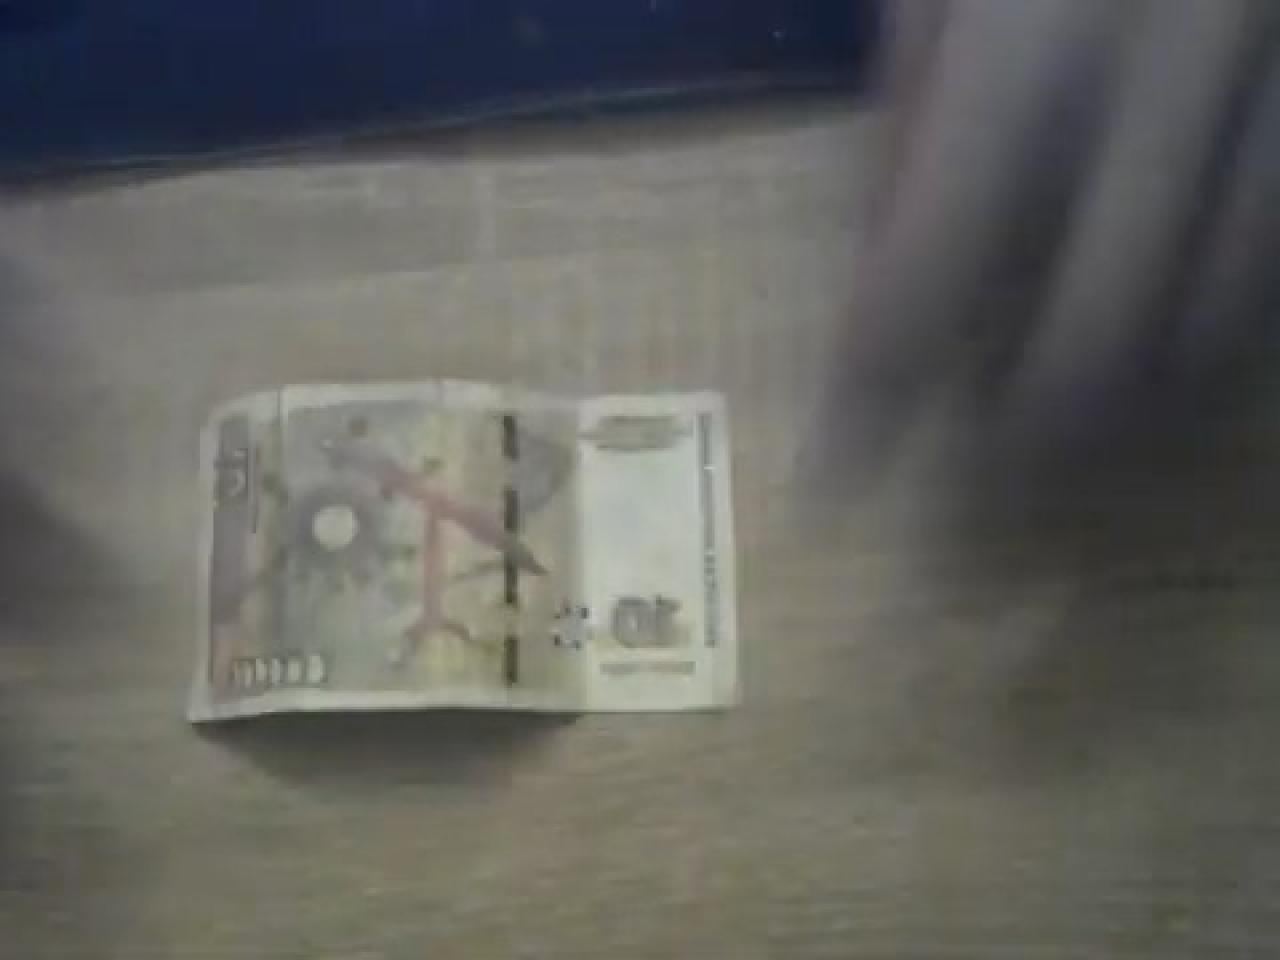10leva: (192, 381, 744, 725)
